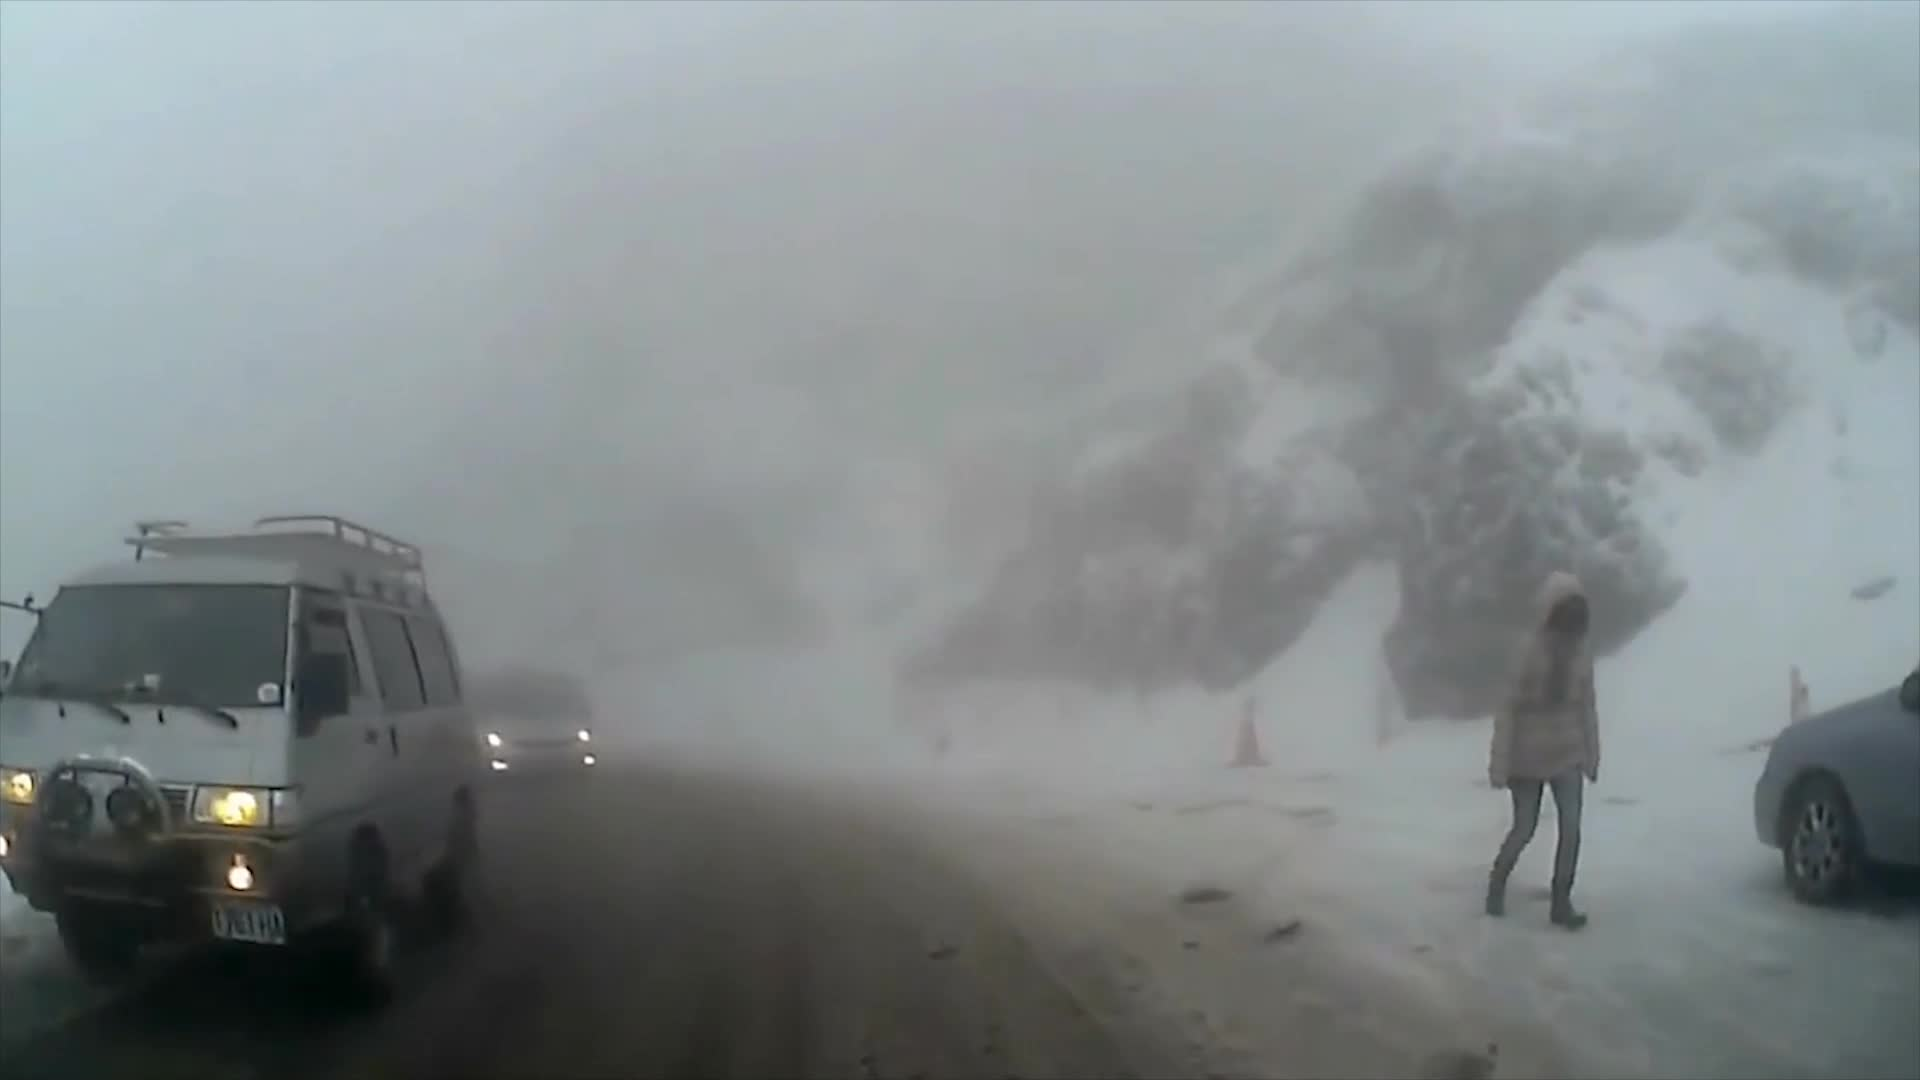pedestrian: (1487, 570, 1606, 932)
vehicle: (0, 509, 486, 1011), (1751, 660, 1920, 914), (438, 670, 598, 790)
